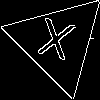X: (33, 17, 76, 70)
